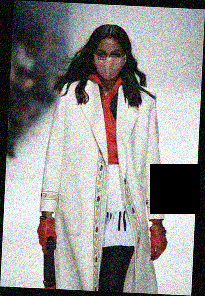with_mask: (91, 46, 127, 80)
